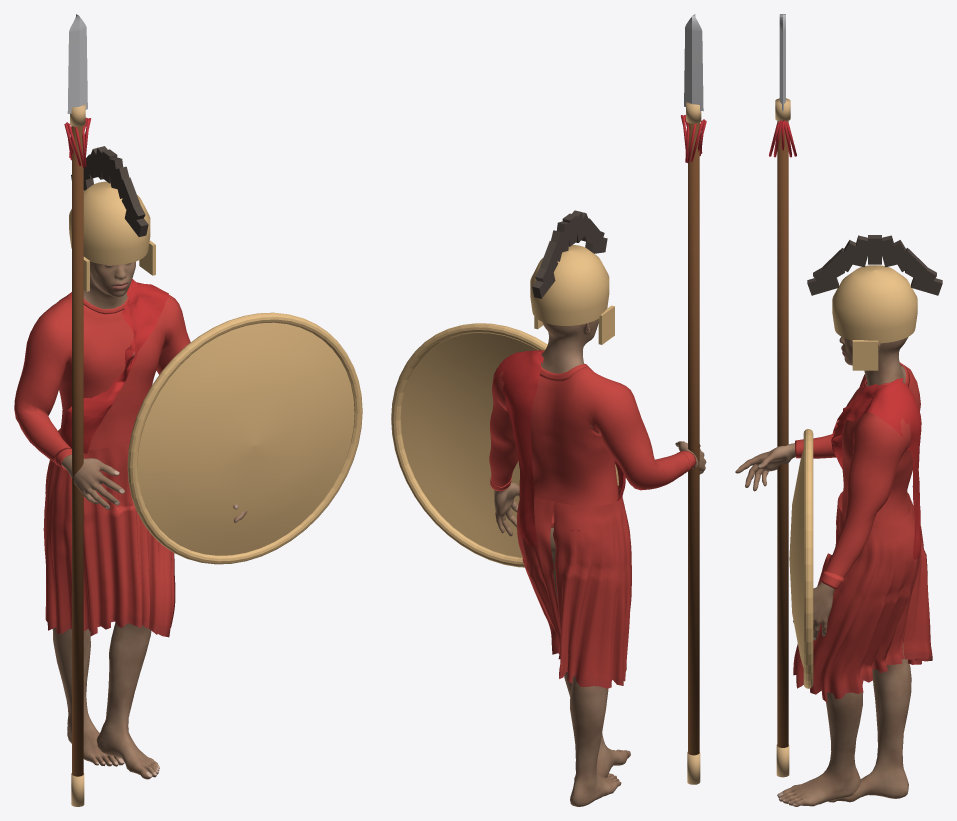
The model's file is greek_red.glb.
3 views of the same model, side by side, from view 1: azimuth 30°, elevation 25°; view 2: azimuth 150°, elevation 25°; view 3: azimuth 270°, elevation 25° (orthographic). The views are drawn at different scales.
Parts seen in each view (by area): view 1: A_greek_red; view 2: A_greek_red; view 3: A_greek_red.
Part boxes in pixels (box(x1,y1,x2,y2)): A_greek_red: box(14, 14, 362, 806); A_greek_red: box(391, 14, 706, 806); A_greek_red: box(735, 14, 942, 806).
Bounding box in the file's own units: 1.08 × 2.62 × 0.6475.
16 materials, 8 textured.
